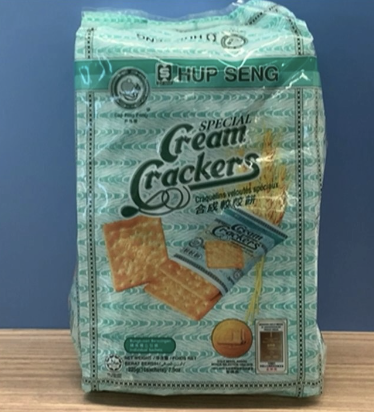crackers_150g: (91, 58, 300, 381)
